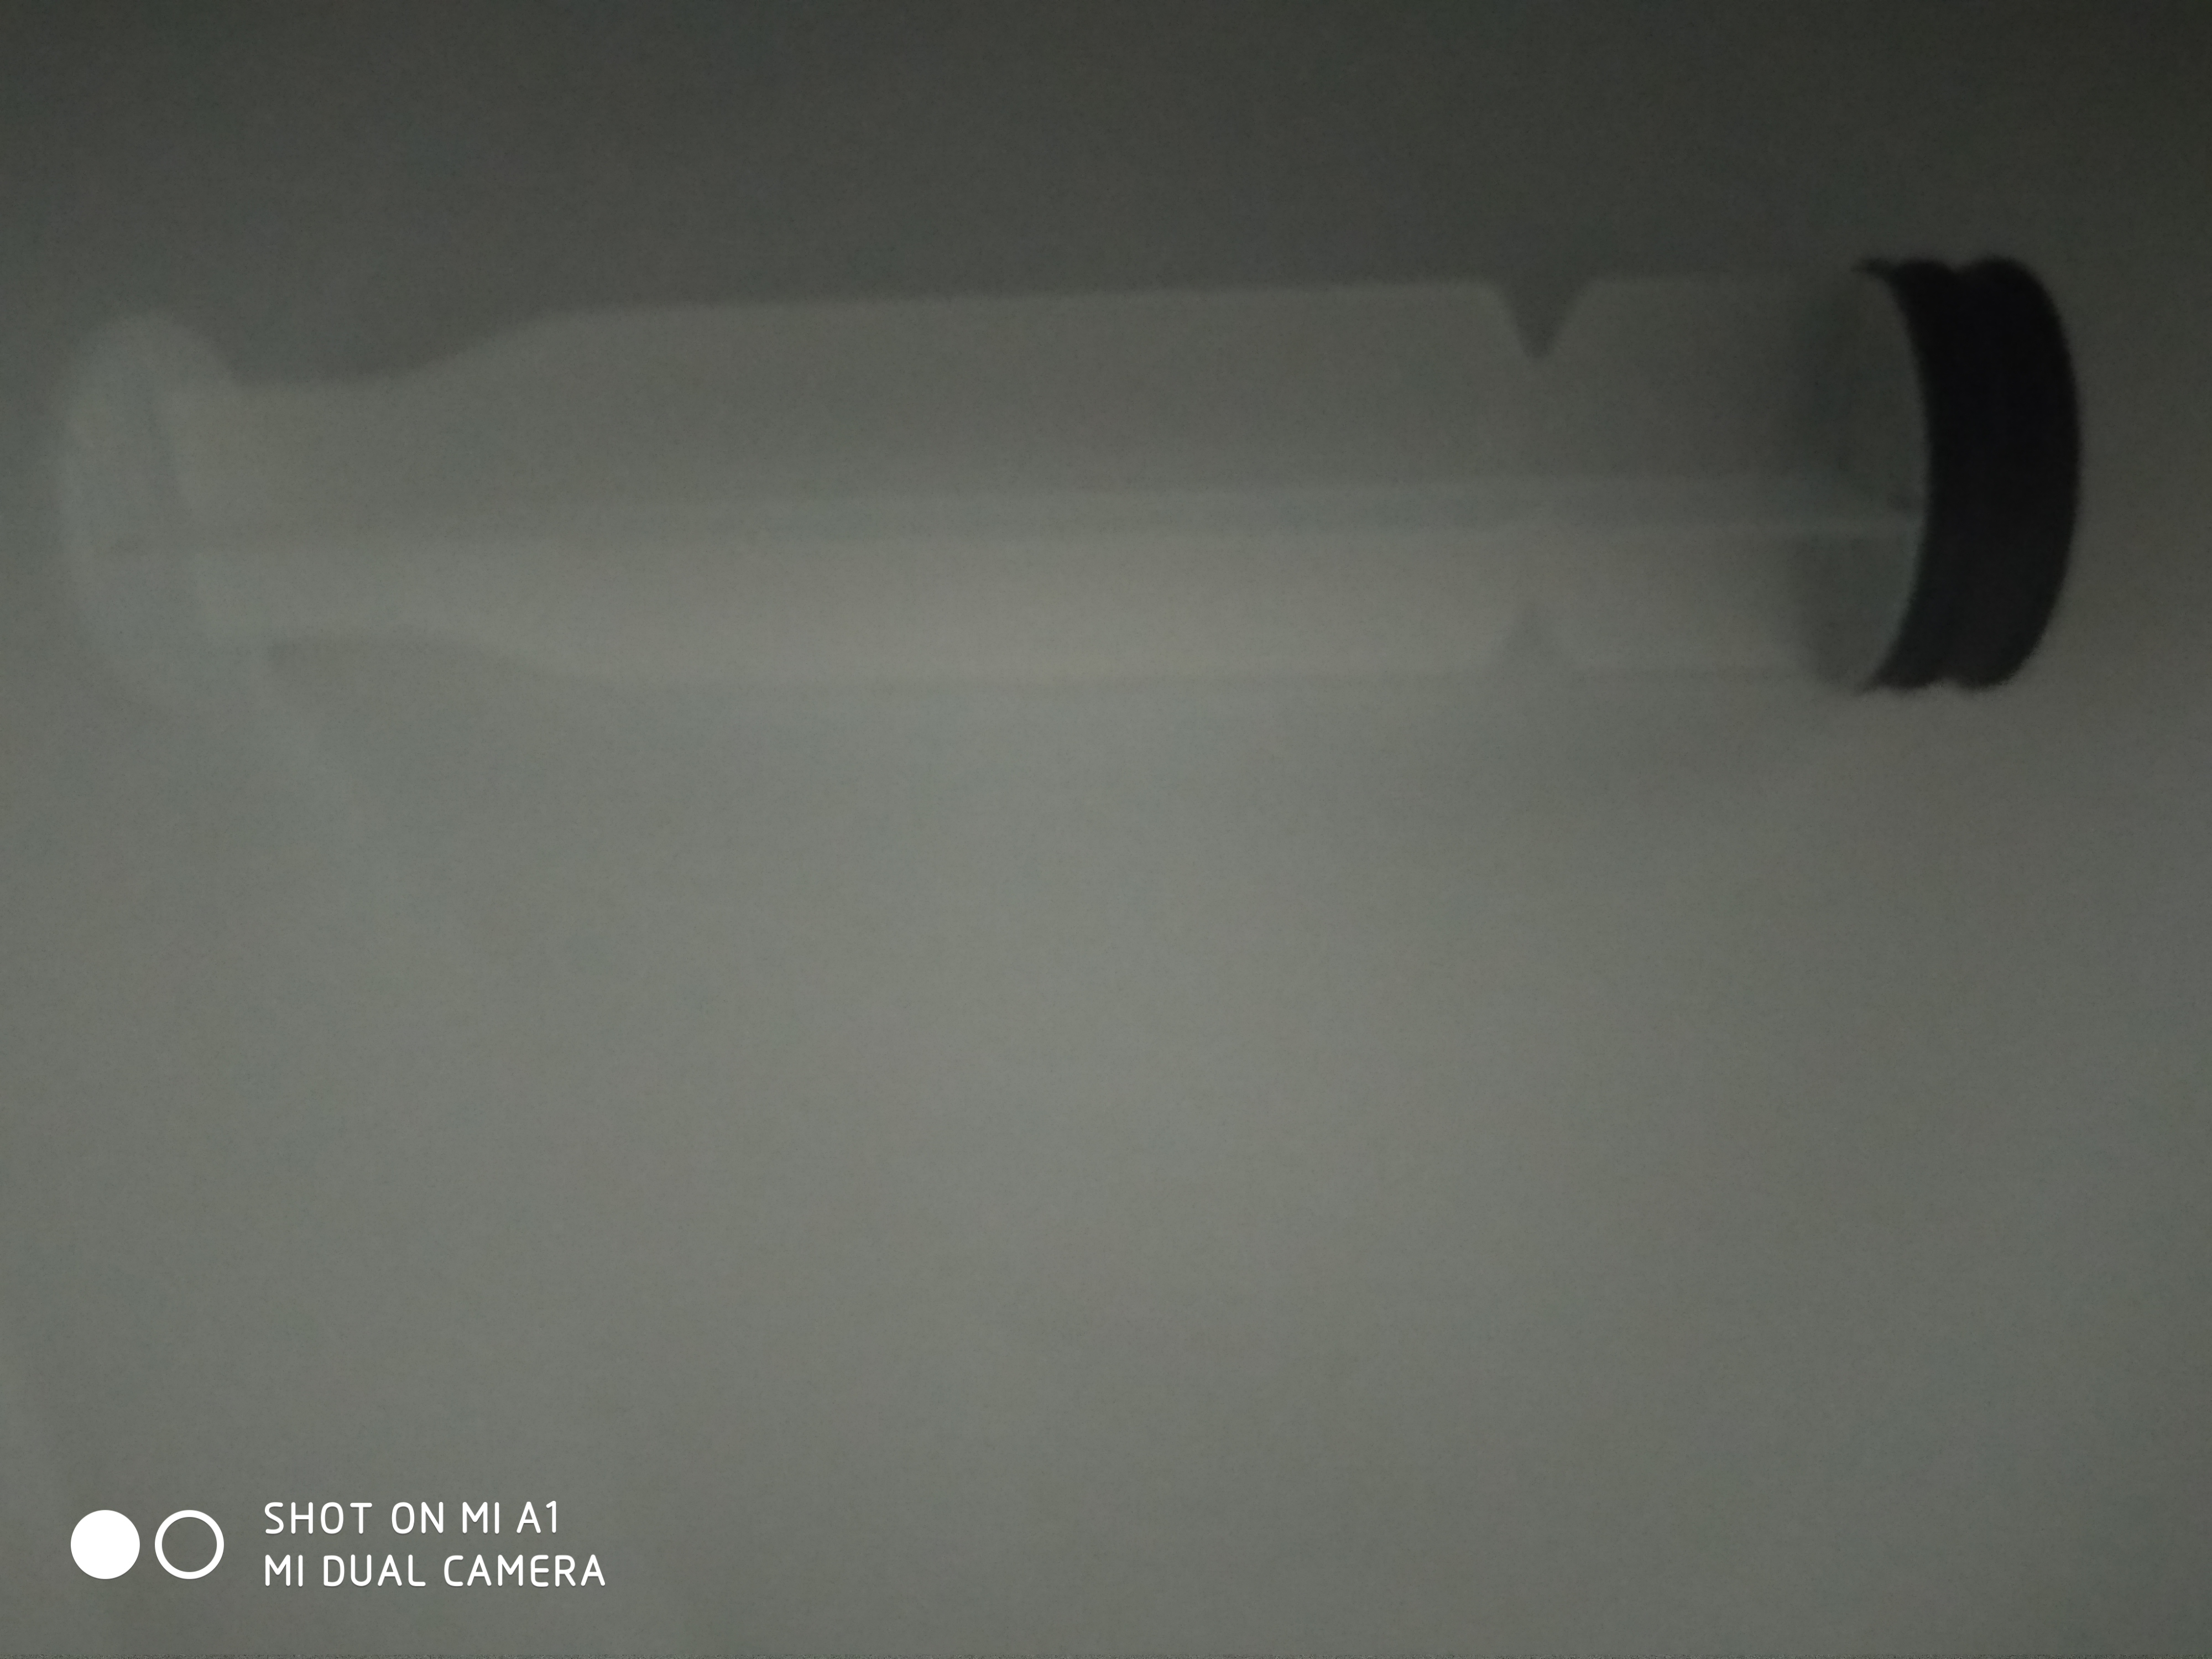plunger: (44, 253, 2101, 723)
